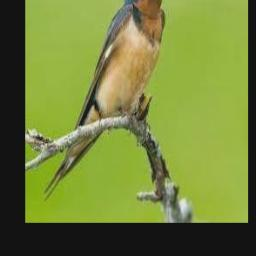Swallow: (43, 0, 165, 201)
